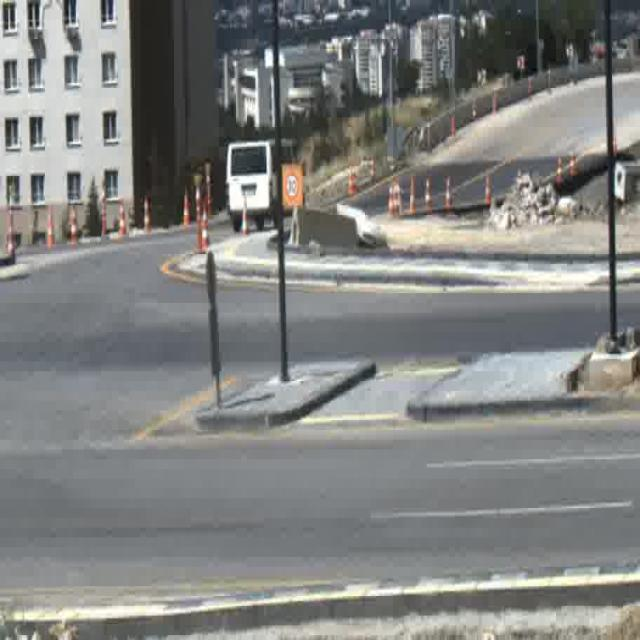Car: (227, 141, 300, 228)
